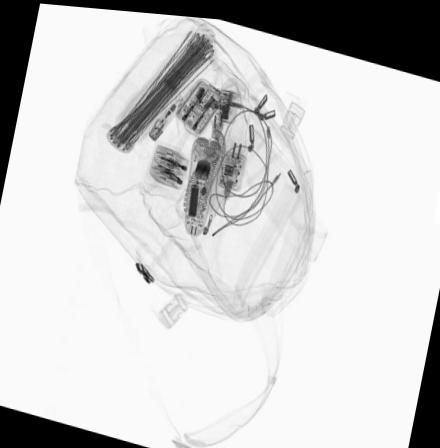Lighter: (146, 89, 184, 139)
